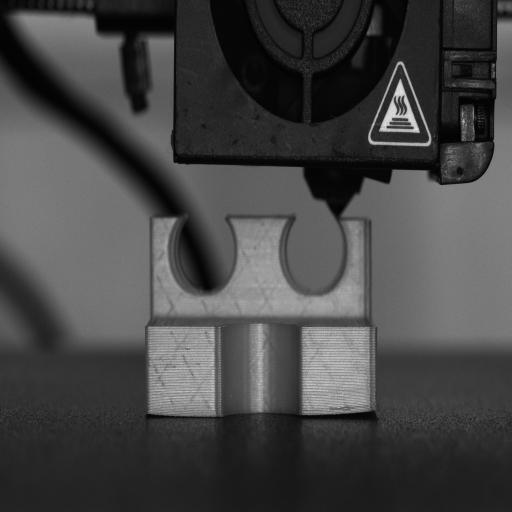warp: (300, 399, 384, 423)
